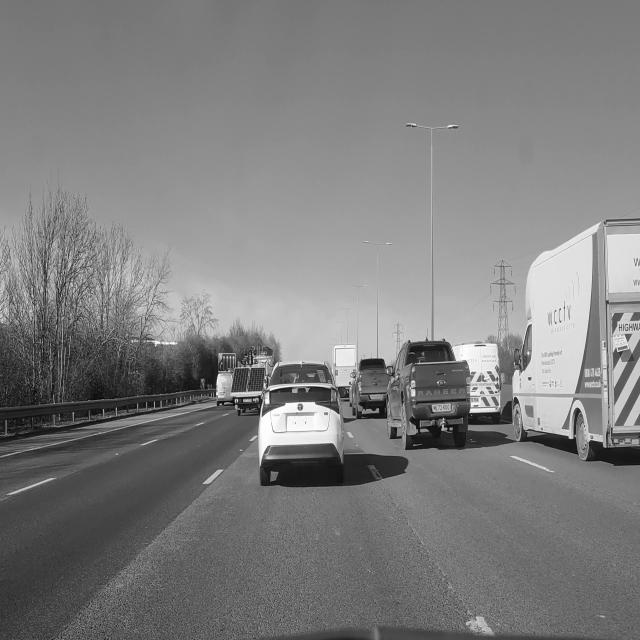car: (384, 333, 473, 455), (258, 361, 344, 485)
